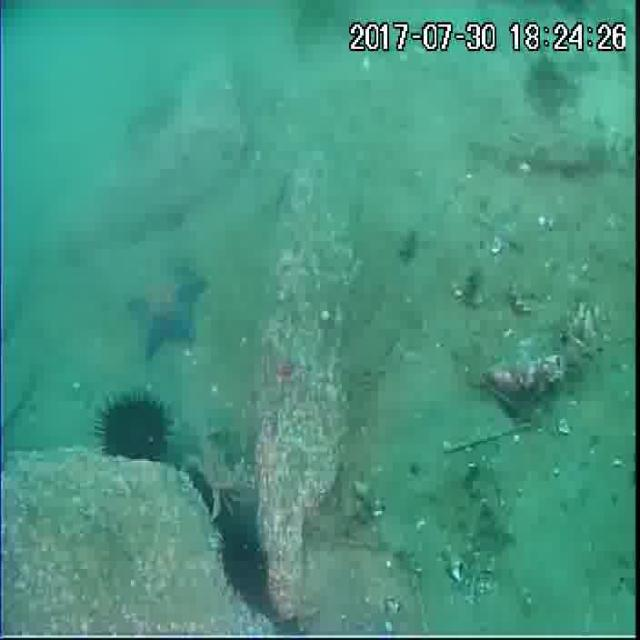echinus: (97, 392, 173, 464), (218, 524, 271, 602)
starfish: (126, 258, 211, 360)
